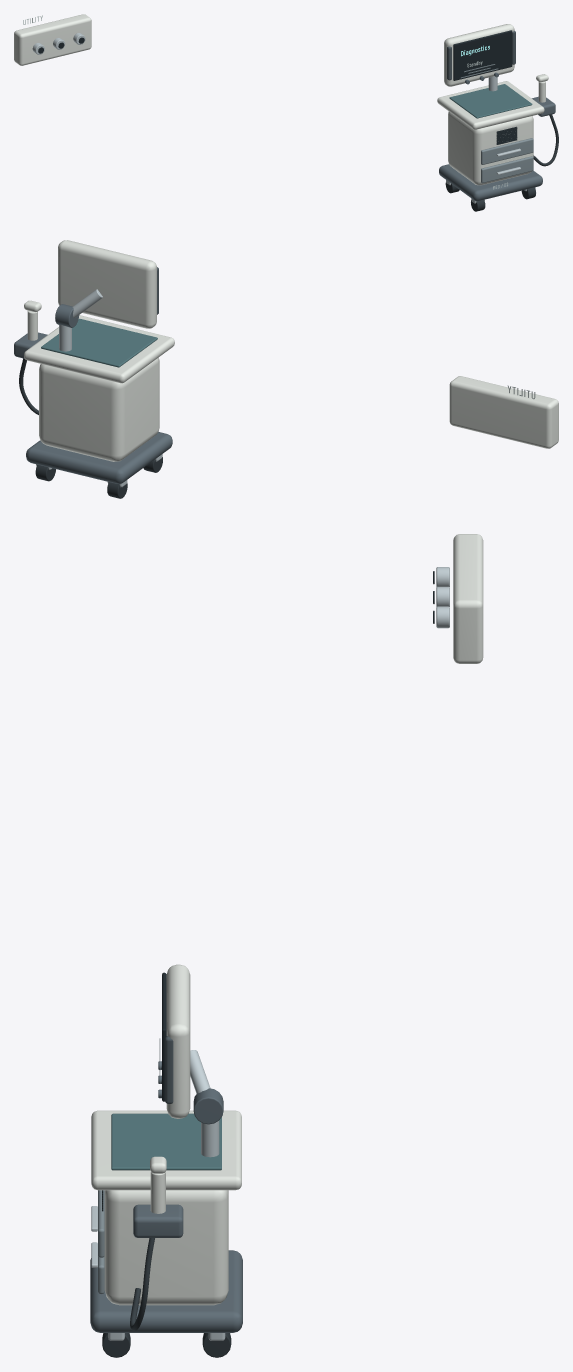
Rendered from equipment-standard.glb.
3 views of the same model, one above another, from view 1: azimuth 30°, elevation 25°; view 2: azimuth 150°, elevation 25°; view 3: azimuth 270°, elevation 25° (orthographic). The views are drawn at different scales.
Parts seen in each view (by area): view 1: equipment__Ceramic medical shell, equipment__Recess and gasket, equipment__Graphite enamel, equipment__Recessed titanium panels, equipment__Medical upholstery, equipment__Satin aluminium, equipment__Restraint webbing, equipment__Coated pressure frame; view 2: equipment__Ceramic medical shell, equipment__Graphite enamel, equipment__Medical upholstery, equipment__Restraint webbing, equipment__Satin aluminium; view 3: equipment__Ceramic medical shell, equipment__Graphite enamel, equipment__Medical upholstery, equipment__Satin aluminium, equipment__Restraint webbing.
Boxes of the visible parts, x1,y1,x2,y2 form: equipment__Ceramic medical shell: (14, 14, 548, 185); equipment__Recess and gasket: (38, 30, 517, 144); equipment__Graphite enamel: (439, 72, 555, 201); equipment__Recessed titanium panels: (461, 64, 533, 183); equipment__Medical upholstery: (449, 84, 532, 118); equipment__Satin aluminium: (32, 33, 535, 203); equipment__Restraint webbing: (445, 114, 558, 211); equipment__Coated pressure frame: (447, 30, 515, 80); equipment__Ceramic medical shell: (24, 240, 558, 461); equipment__Graphite enamel: (14, 304, 172, 483); equipment__Medical upholstery: (41, 318, 157, 367); equipment__Restraint webbing: (19, 358, 162, 498); equipment__Satin aluminium: (36, 289, 162, 487); equipment__Ceramic medical shell: (91, 534, 483, 1305); equipment__Graphite enamel: (90, 1061, 242, 1332); equipment__Medical upholstery: (111, 1113, 221, 1170); equipment__Satin aluminium: (91, 567, 449, 1340); equipment__Restraint webbing: (102, 1238, 231, 1357).
Bounding box in the file's own units: 6.36 × 2.79 × 2.35.
